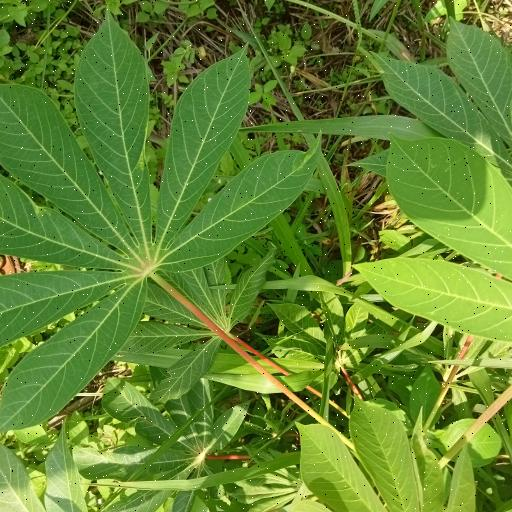Cassava_Healthy: (4, 17, 316, 432), (120, 240, 274, 390)
